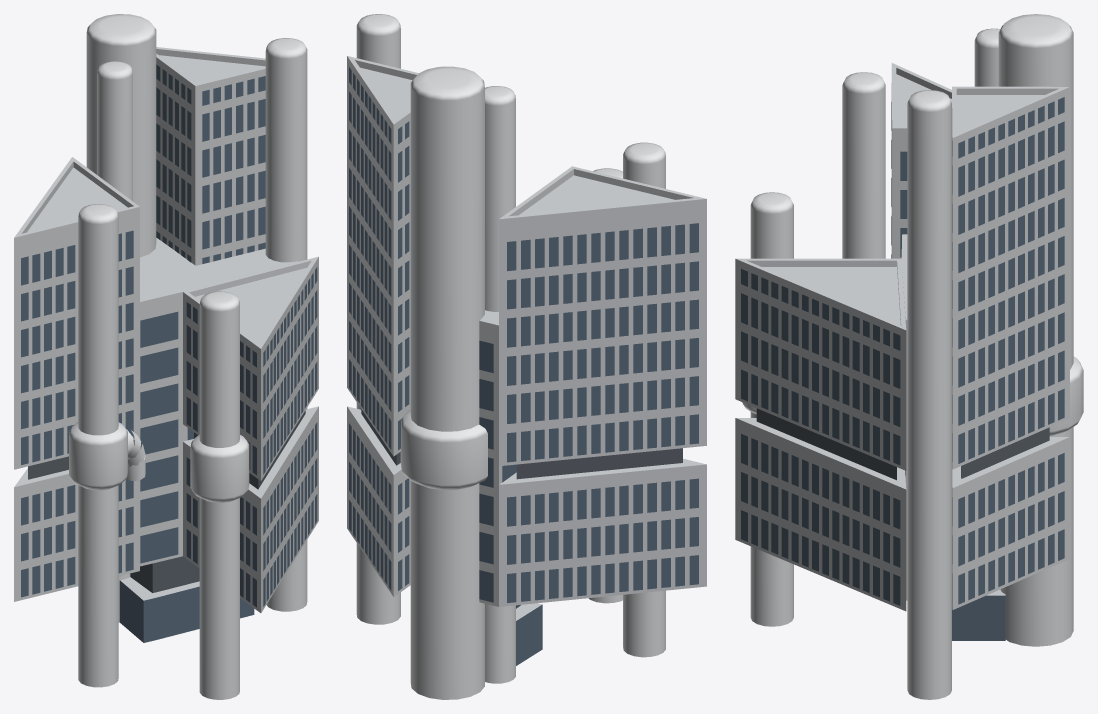
File: munich-hvb-tower.glb
3 views of the same model, side by side, from view 1: azimuth 30°, elevation 25°; view 2: azimuth 150°, elevation 25°; view 3: azimuth 270°, elevation 25° (orthographic). The views are drawn at different scales.
Parts seen in each view (by area): view 1: HVB Tower; view 2: HVB Tower; view 3: HVB Tower.
Part boxes in pixels (<box>): HVB Tower: <box>14,14,318,699</box>; HVB Tower: <box>347,14,706,699</box>; HVB Tower: <box>735,14,1083,699</box>.
Bounding box in the file's own units: 65.4 × 114 × 59.5.
